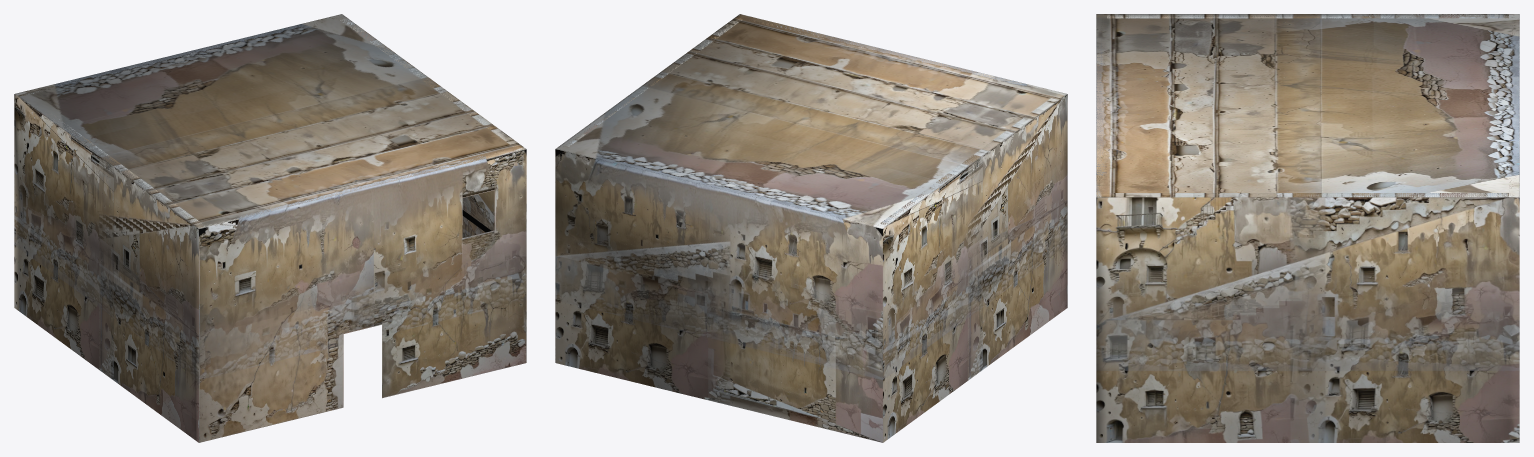
Rendered from skin_town_55_-112.glb.
3 views of the same model, side by side, from view 1: azimuth 30°, elevation 25°; view 2: azimuth 150°, elevation 25°; view 3: azimuth 270°, elevation 25° (orthographic). The views are drawn at different scales.
Parts seen in each view (by area): view 1: town_55_-112; view 2: town_55_-112; view 3: town_55_-112.
Boxes of the visible parts, bbox=[...] form: town_55_-112: bbox=[14, 14, 526, 442]; town_55_-112: bbox=[555, 14, 1067, 442]; town_55_-112: bbox=[1096, 14, 1519, 442].
Size of the model in its own units: 10.25 by 6.4 by 10.
1 material, 1 textured.
